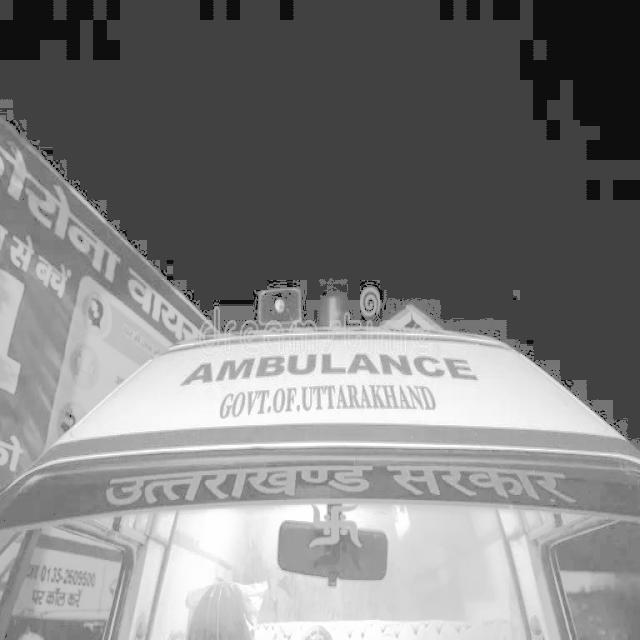Ambulance: (138, 292, 511, 564), (162, 347, 495, 428)
